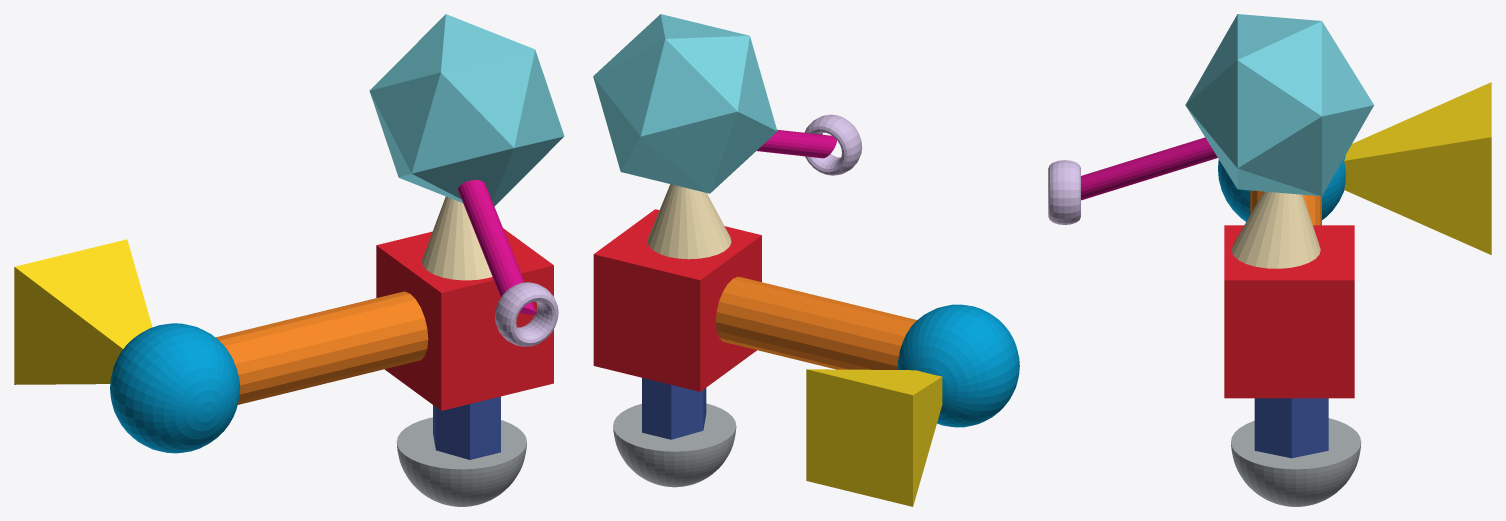
The model's file is tinker.obj.
3 views of the same model, side by side, from view 1: azimuth 30°, elevation 25°; view 2: azimuth 150°, elevation 25°; view 3: azimuth 270°, elevation 25° (orthographic). The views are drawn at different scales.
Visible parts, largest first — view 1: group_0_7720667, group_0_15277357, group_0_16768282, group_0_16089887, group_0_40919, group_0_10988977, group_0_16311991, group_0_3888547, group_0_14093196, group_0_13877221; view 2: group_0_7720667, group_0_15277357, group_0_16768282, group_0_16089887, group_0_40919, group_0_10988977, group_0_16311991, group_0_3888547, group_0_13877221, group_0_14093196; view 3: group_0_7720667, group_0_15277357, group_0_16768282, group_0_10988977, group_0_16311991, group_0_3888547, group_0_14093196, group_0_13877221, group_0_40919, group_0_16089887.
Boxes of the visible parts, box(x1,y1,x2,y2) form: group_0_7720667: box(369, 14, 564, 206); group_0_15277357: box(376, 228, 553, 410); group_0_16768282: box(14, 239, 152, 384); group_0_16089887: box(215, 291, 428, 404); group_0_40919: box(110, 323, 240, 453); group_0_10988977: box(396, 417, 526, 506); group_0_16311991: box(422, 196, 492, 280); group_0_3888547: box(433, 396, 500, 459); group_0_14093196: box(458, 180, 536, 314); group_0_13877221: box(495, 282, 558, 346); group_0_7720667: box(593, 14, 777, 193); group_0_15277357: box(593, 209, 761, 391); group_0_16768282: box(806, 369, 942, 506); group_0_16089887: box(715, 276, 916, 369); group_0_40919: box(897, 304, 1019, 427); group_0_10988977: box(613, 403, 736, 487); group_0_16311991: box(647, 184, 731, 259); group_0_3888547: box(642, 378, 706, 439); group_0_13877221: box(804, 114, 862, 175); group_0_14093196: box(757, 129, 836, 158); group_0_7720667: box(1185, 14, 1373, 196); group_0_15277357: box(1224, 225, 1354, 398); group_0_16768282: box(1344, 82, 1491, 254); group_0_10988977: box(1231, 418, 1361, 506); group_0_16311991: box(1231, 191, 1320, 268); group_0_3888547: box(1254, 398, 1328, 458); group_0_14093196: box(1081, 137, 1217, 200); group_0_13877221: box(1048, 160, 1080, 224); group_0_40919: box(1218, 155, 1345, 221); group_0_16089887: box(1250, 190, 1321, 225).
Size of the model in its own units: 75 by 81 by 68.
